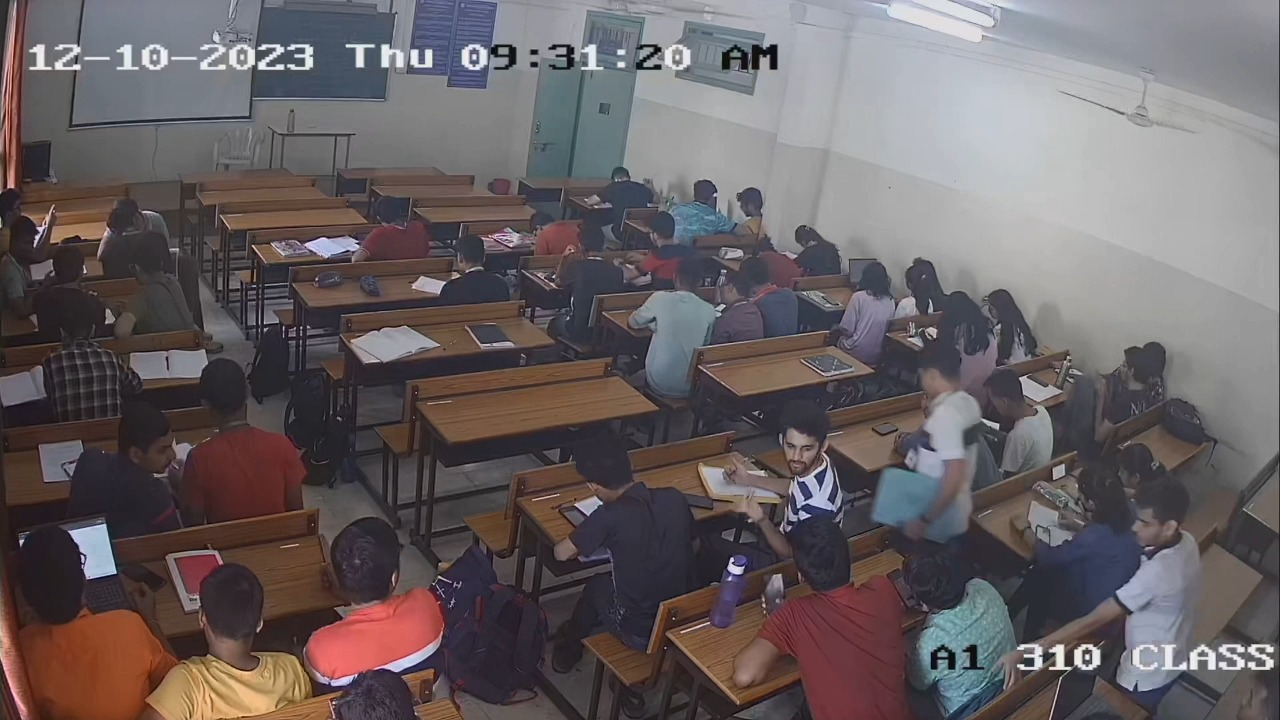cell-phones: (117, 559, 167, 591), (762, 570, 791, 619), (560, 503, 591, 532), (1035, 521, 1054, 552), (872, 418, 898, 440), (1049, 464, 1070, 479), (822, 294, 841, 307)
person: (729, 517, 906, 720), (542, 435, 705, 624), (146, 565, 310, 720), (876, 349, 986, 521), (1026, 466, 1143, 623), (1115, 437, 1172, 504), (845, 264, 895, 326)
